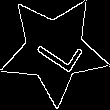L_NW: (26, 23, 82, 77)
